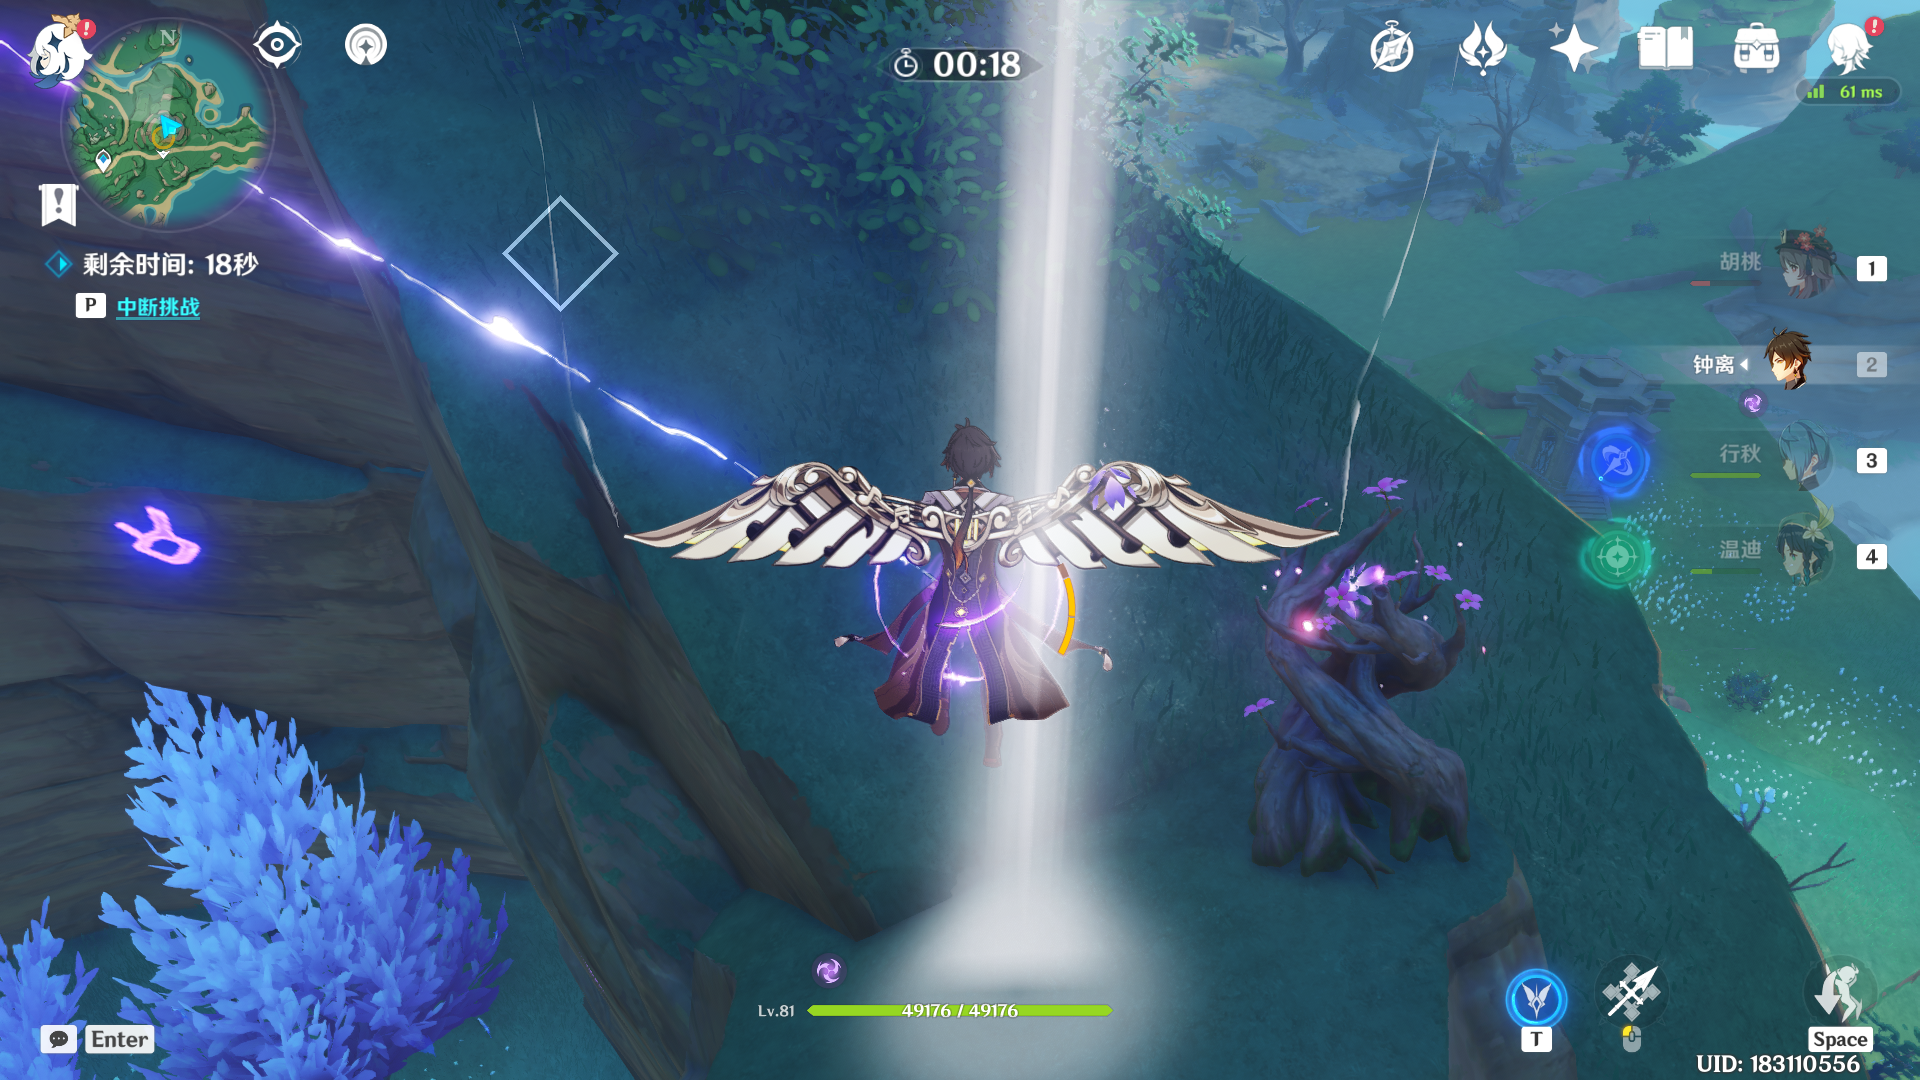character: (717, 371, 1143, 777)
